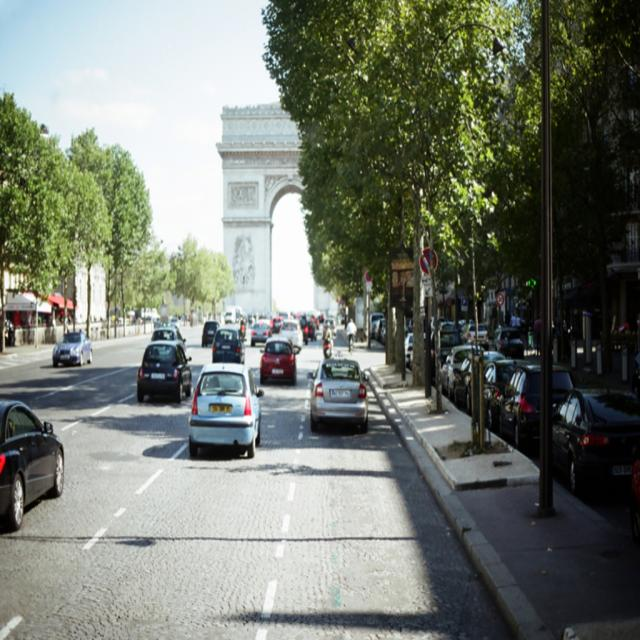car: (51, 329, 91, 365)
